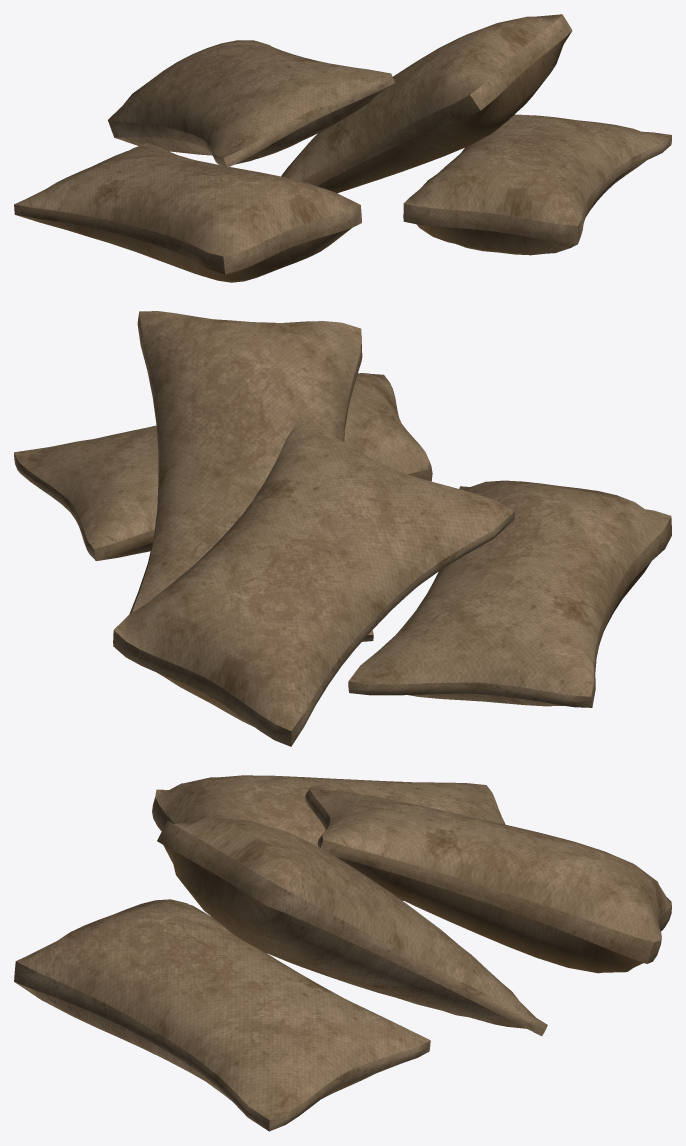
Rendered from SandBag Pile Final.FBX.
The picture shows the model from 3 angles, top to bottom: view 1: azimuth 30°, elevation 25°; view 2: azimuth 150°, elevation 25°; view 3: azimuth 270°, elevation 25°; orthographic projection. The views are drawn at different scales.
Parts seen in each view (by area): view 1: Box010, Box009, Box008, Box011; view 2: Box011, Box010, Box009, Box008; view 3: Box008, Box011, Box009, Box010.
Part boxes in pixels (x1,y1,x2,y2): Box010: (14, 143, 361, 282); Box009: (281, 14, 572, 193); Box008: (403, 114, 671, 255); Box011: (108, 40, 394, 167); Box011: (113, 417, 514, 746); Box010: (348, 480, 671, 707); Box009: (129, 311, 373, 641); Box008: (14, 373, 432, 561); Box008: (14, 899, 430, 1131); Box011: (305, 785, 671, 973); Box009: (157, 817, 547, 1036); Box010: (152, 775, 505, 900).
Bounding box in the file's own units: 256 × 78.1 × 215.
1 material, 1 textured.
